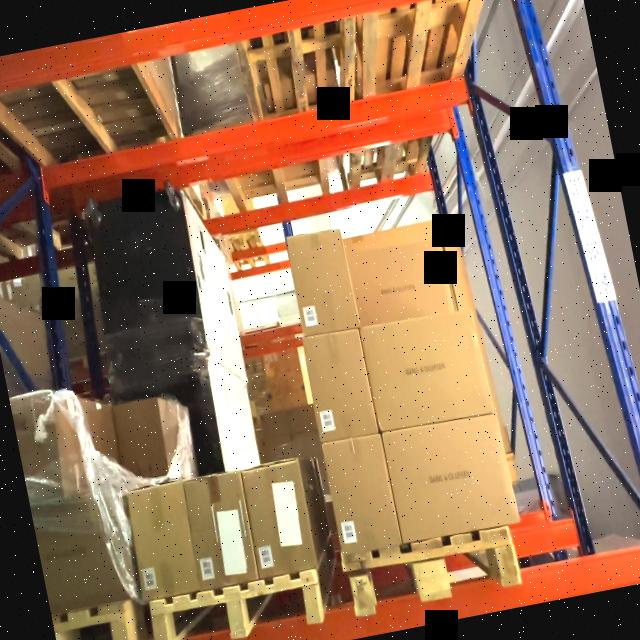box: (81, 188, 204, 356), (357, 304, 496, 440), (380, 412, 514, 540), (106, 356, 223, 484), (346, 222, 466, 327), (34, 495, 136, 611), (124, 480, 205, 604), (319, 436, 402, 557), (180, 474, 258, 594), (284, 226, 359, 334), (242, 457, 315, 566), (307, 332, 377, 443)
